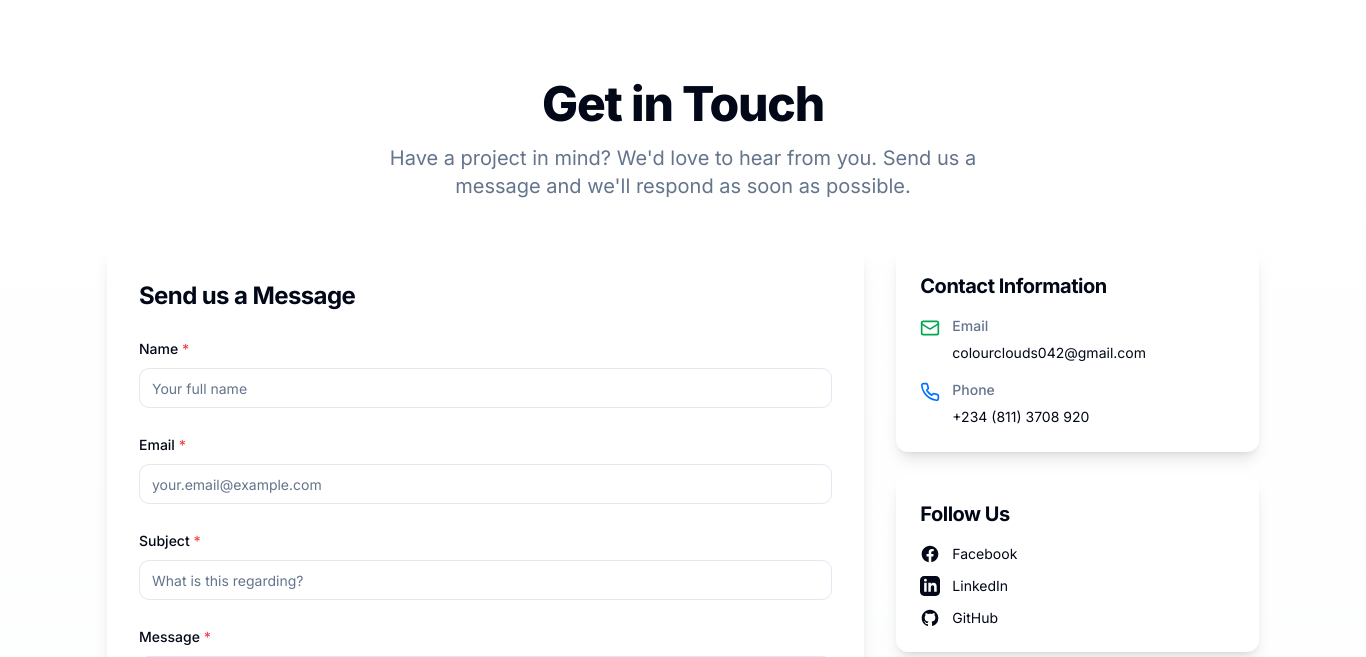
Contact Page › Client-side Validation › should show validation error for invalid email
The image size is (1366, 657).
Step 1. Type "invalid-email" into the field labelled "Email *" → (486, 484), box [139, 464, 832, 504]
(page scrolled)
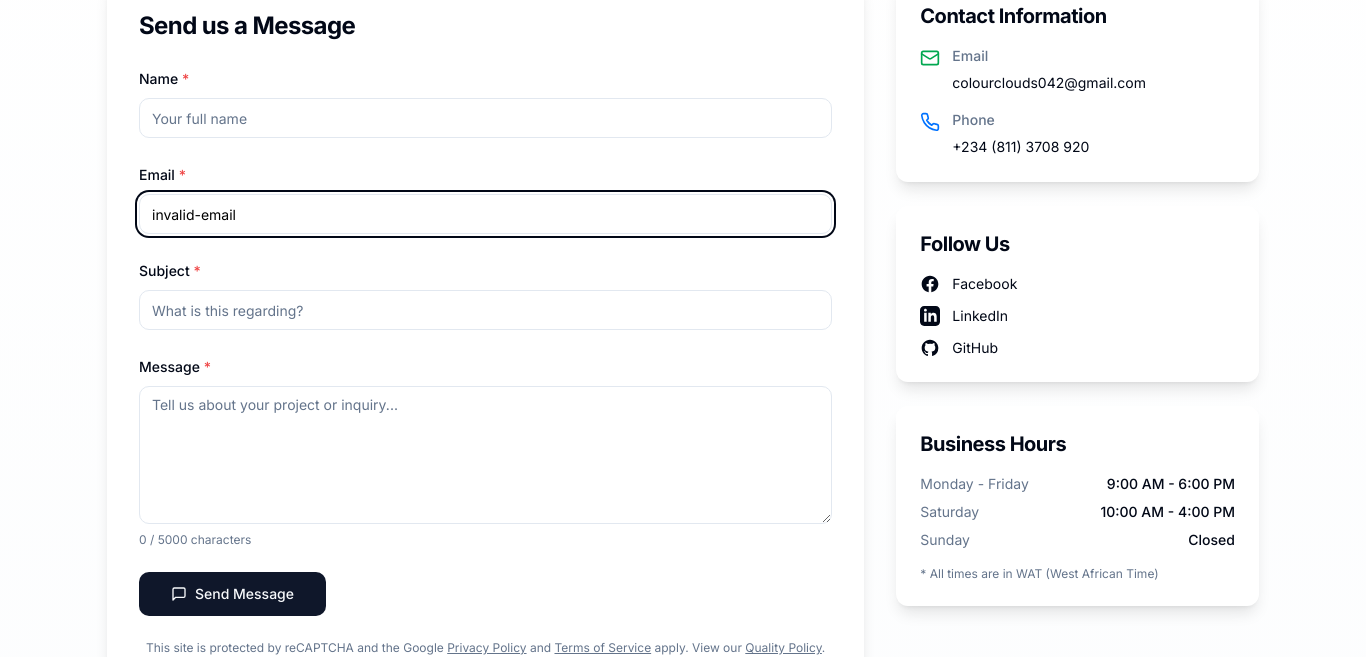
Step 2. Click the button "Send Message" → (232, 594), box [139, 572, 326, 616]
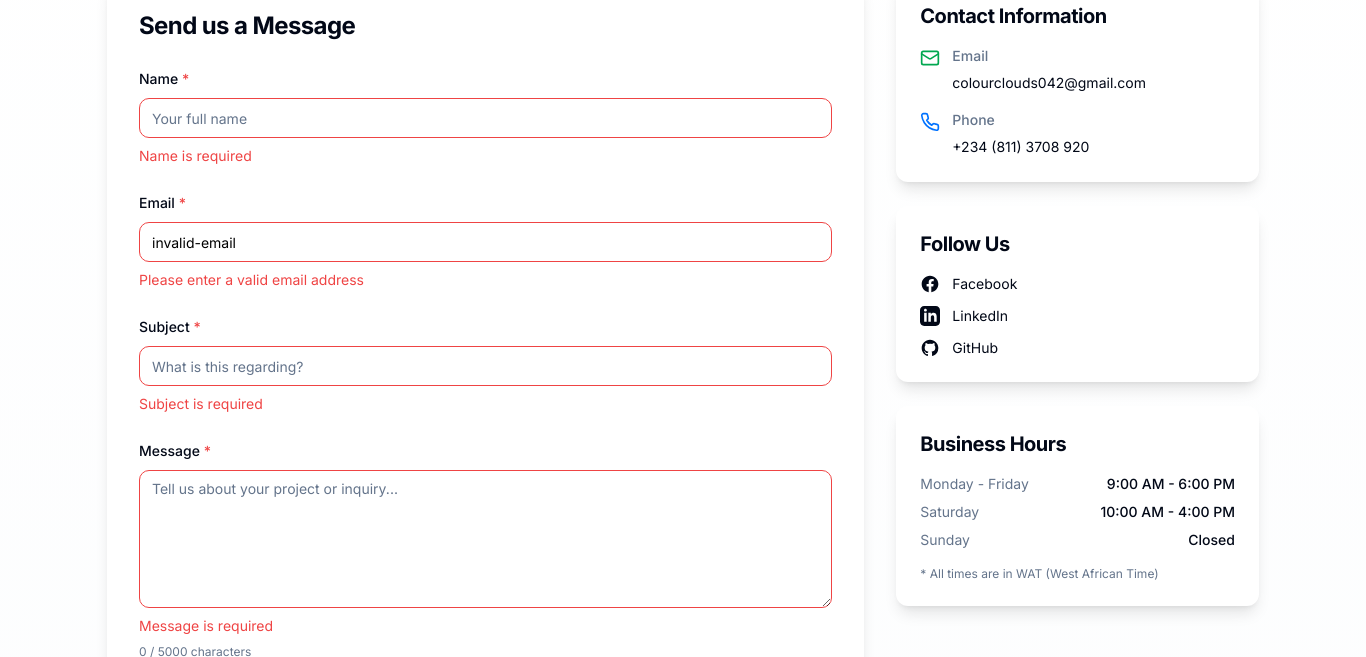
Now the text "Please enter a valid email address" is shown, box [139, 271, 364, 288]
